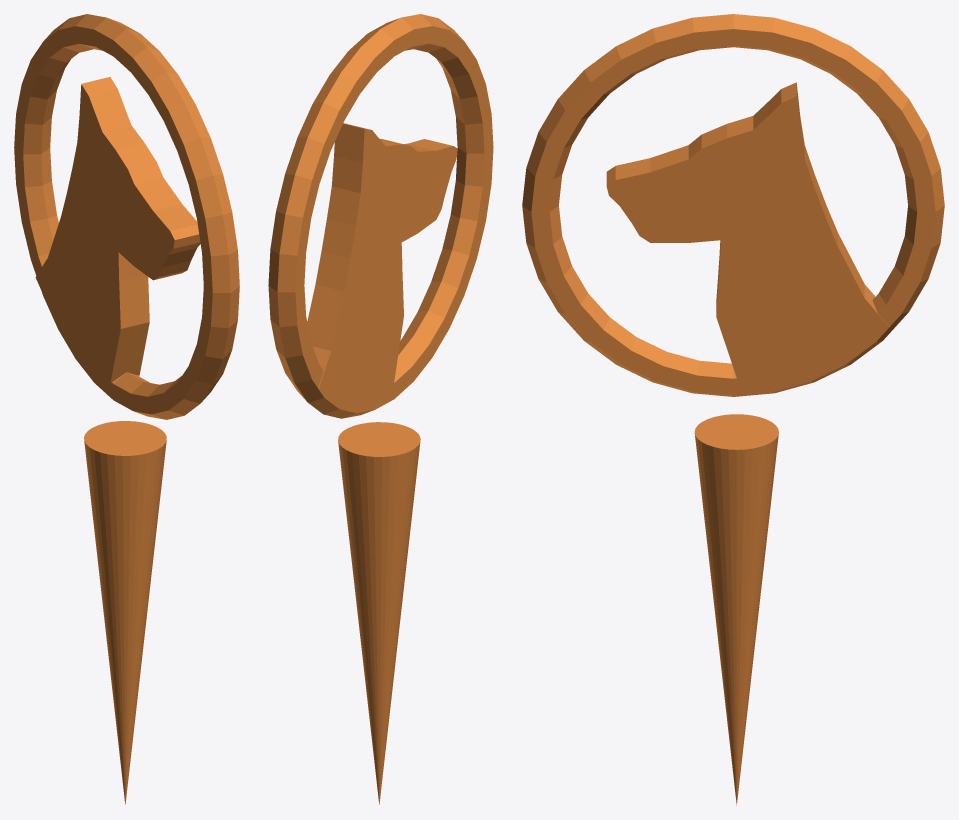
Rendered from dogspot.fbx.
The picture shows the model from 3 angles, left to right: view 1: azimuth 30°, elevation 25°; view 2: azimuth 150°, elevation 25°; view 3: azimuth 270°, elevation 25°; orthographic projection. The views are drawn at different scales.
Parts seen in each view (by area): view 1: Plane.002, Torus.015, Cone; view 2: Torus.015, Plane.002, Cone; view 3: Plane.002, Torus.015, Cone.
Part boxes in pixels (x1,y1,x2,y2): Plane.002: (35, 77, 200, 382); Torus.015: (14, 14, 239, 419); Cone: (84, 421, 166, 804); Torus.015: (268, 14, 493, 418); Plane.002: (307, 123, 457, 405); Cone: (338, 422, 420, 804); Plane.002: (606, 82, 888, 384); Torus.015: (522, 14, 944, 396); Cone: (694, 414, 778, 805).
Size of the model in its own units: 18.9 by 196 by 94.62.
